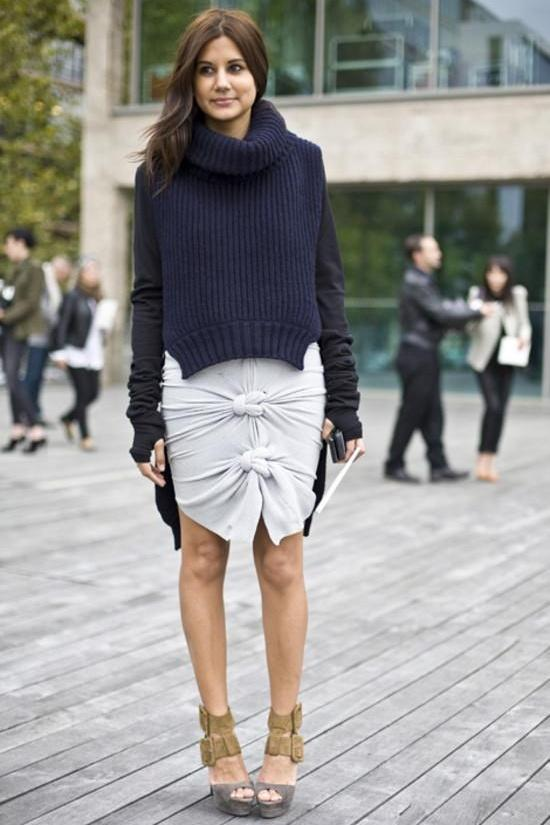skirt: (157, 334, 327, 542)
sweater: (128, 97, 364, 464)
